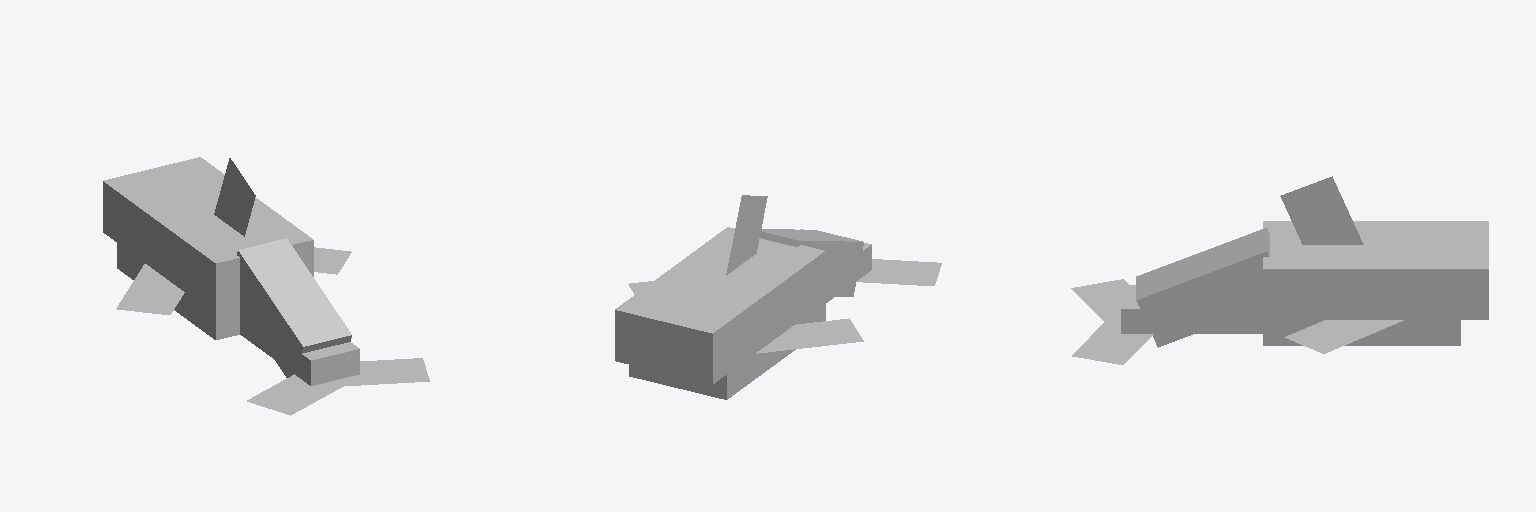
Rendered from shorkie.obj.
The picture shows the model from 3 angles: view 1: azimuth 30°, elevation 25°; view 2: azimuth 150°, elevation 25°; view 3: azimuth 270°, elevation 25°; orthographic projection.
Visible parts, largest first — view 1: cube; view 2: cube; view 3: cube.
Boxes of the visible parts, x1=… form: cube: x1=103, y1=157, x2=429, y2=415; cube: x1=615, y1=195, x2=941, y2=399; cube: x1=1071, y1=176, x2=1488, y2=364.
Size of the model in its own units: 0.6036 by 0.3891 by 0.9228.